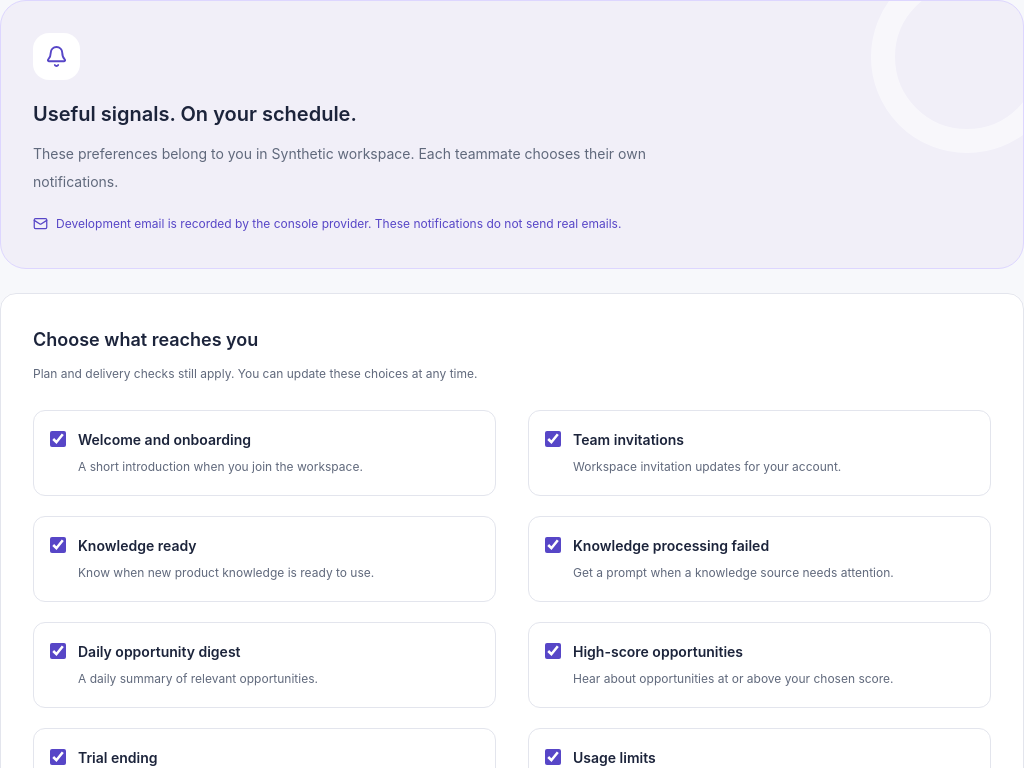
it: personal notification preferences › persists selected categories, score, timezone and overnight quiet hours for a viewer
Click the checkbox labelled "Welcome and onboarding". click: (58, 439)
box: [50,431,66,447]
(page scrolled)
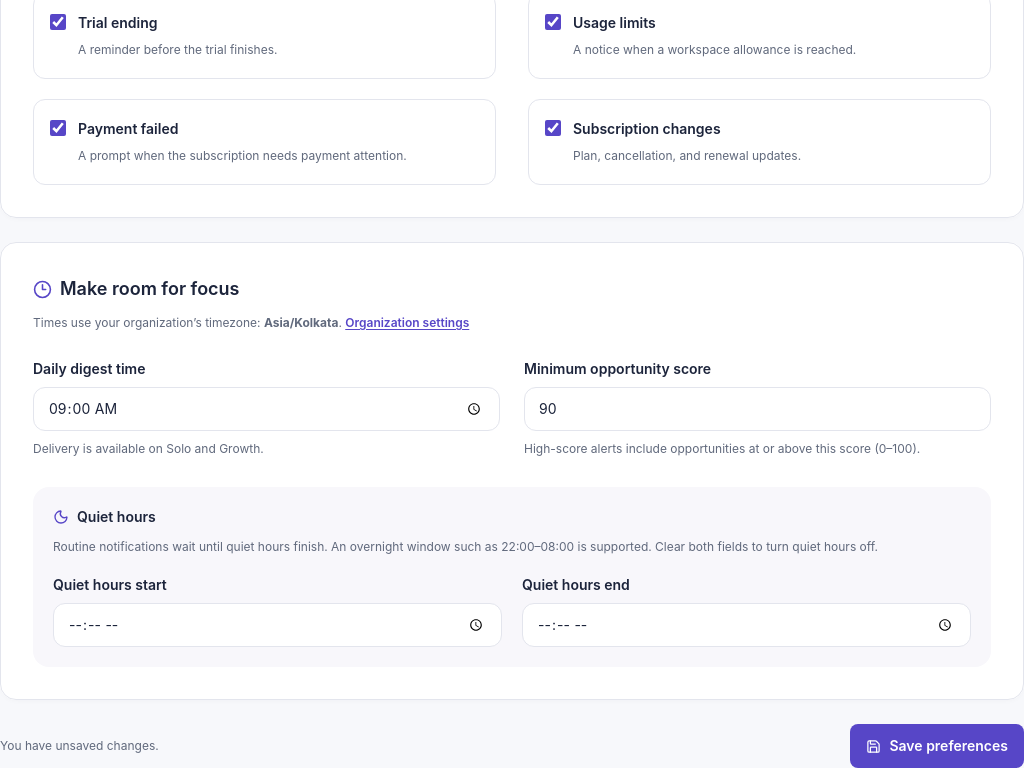
Replace the text in the number field labelled "Minimum opportunity score" with "85". click: (758, 409)
box: [524,387,991,431]
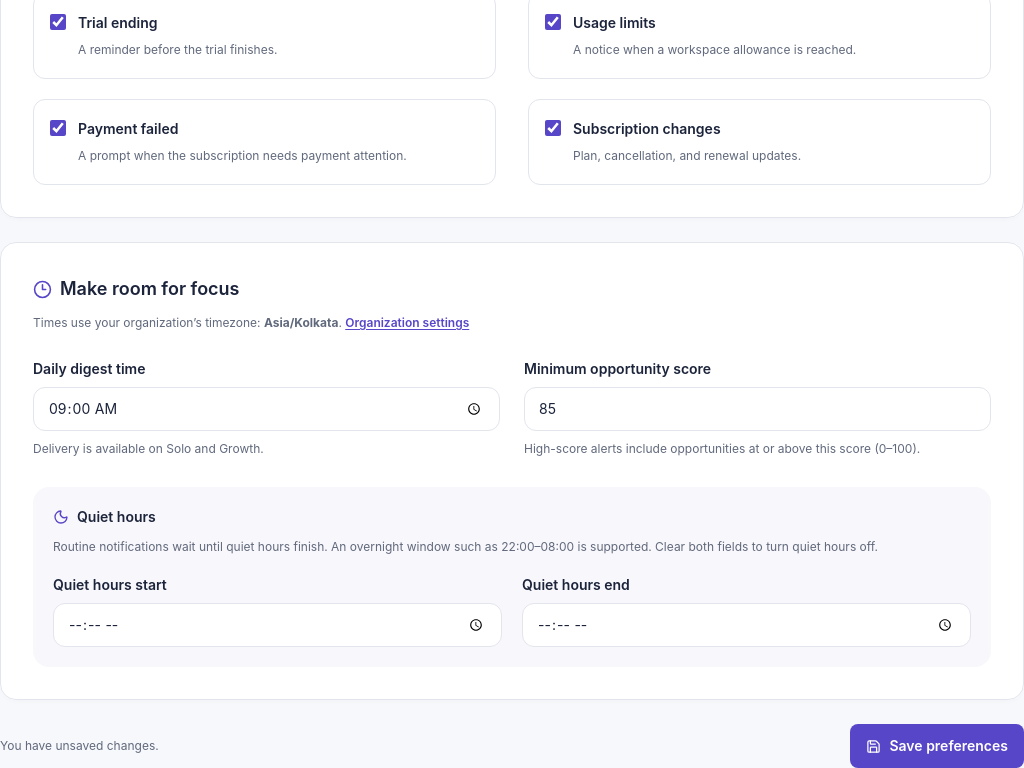
Type "22:00" into the time field labelled "Quiet hours start". click: (278, 625)
box: [53,603,502,647]
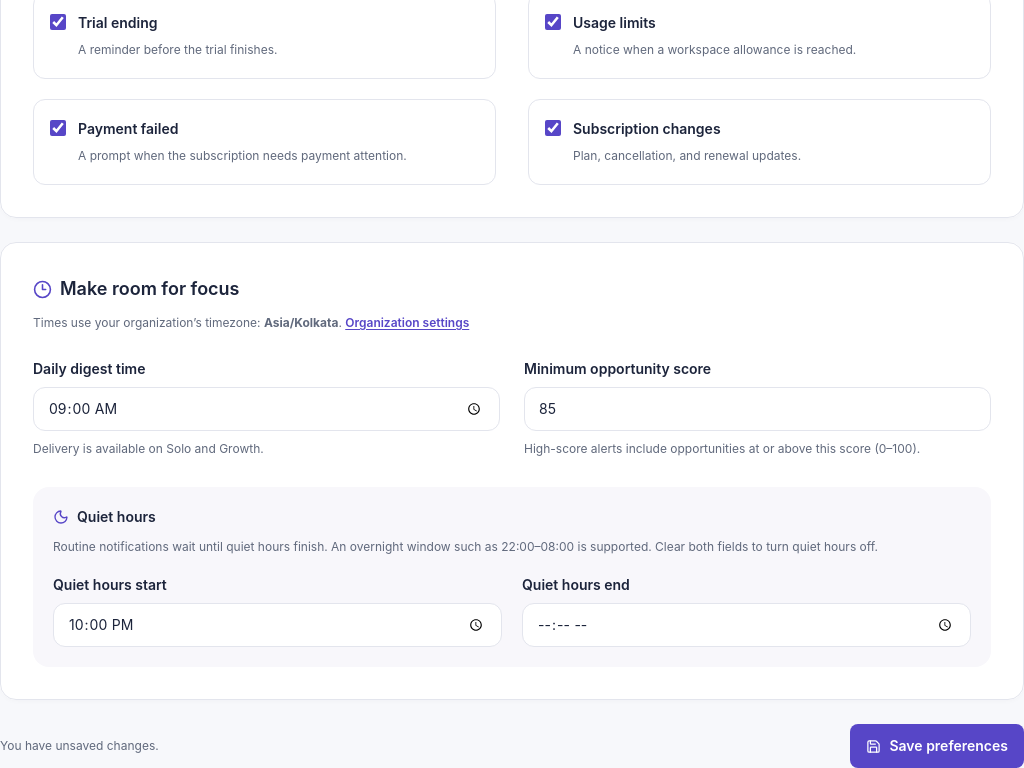
Type "08:00" into the time field labelled "Quiet hours end". click: (746, 625)
box: [522,603,971,647]
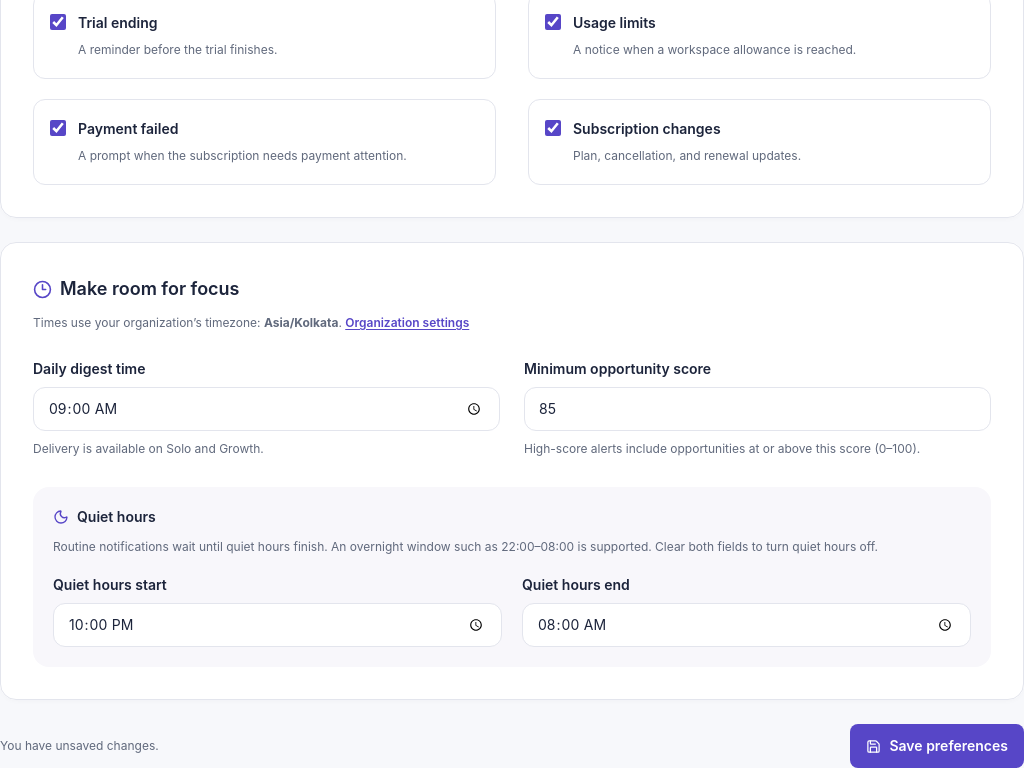
Click the button "Save preferences". click: (937, 746)
box: [850,724,1023,767]
(page scrolled)
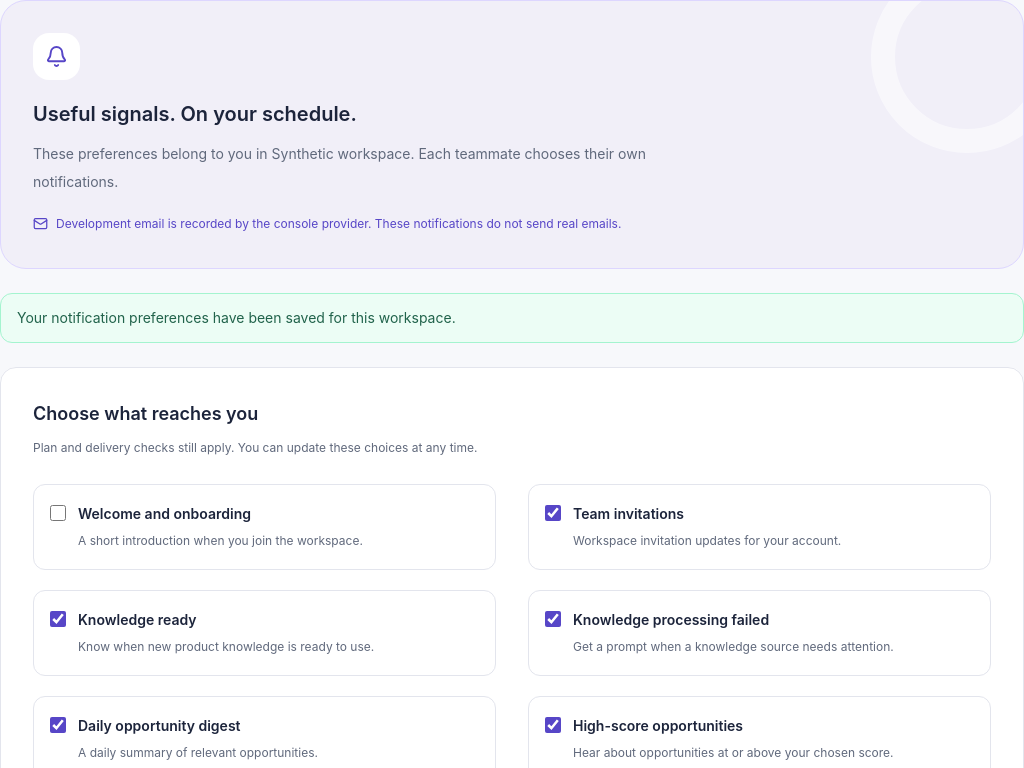
expect the text "do not send real emails" is shown: met, box [56,216,621,231]
expect the message "Your notification preferences have been saved for this workspace." is shown: met, box [0,293,1023,343]
expect the message shows "have been saved": met, box [17,309,456,326]
